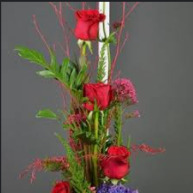RedRose: (91, 142, 132, 183), (74, 76, 118, 106), (70, 6, 104, 44), (47, 180, 71, 193)
